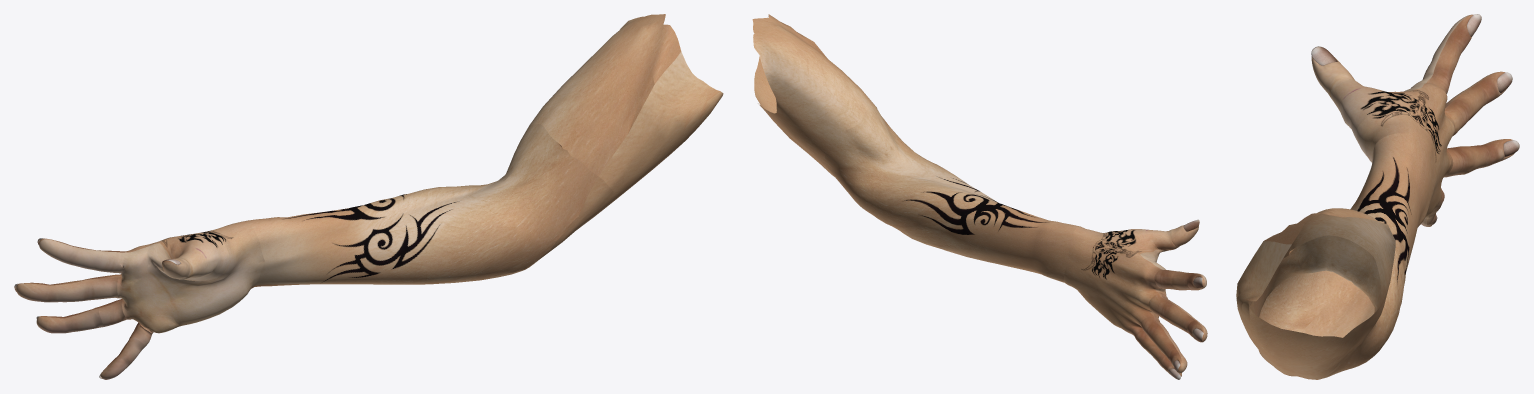
Rendered from arms.fbx.
3 views of the same model, side by side, from view 1: azimuth 30°, elevation 25°; view 2: azimuth 150°, elevation 25°; view 3: azimuth 270°, elevation 25° (orthographic). The views are drawn at different scales.
Parts seen in each view (by area): view 1: head02; view 2: head02; view 3: head02.
Part boxes in pixels (<box>): head02: <box>14,14,723,379</box>; head02: <box>752,14,1207,379</box>; head02: <box>1236,14,1519,379</box>.
Bounding box in the file's own units: 2.46 × 1.01 × 0.7619.
1 material, 1 textured.
